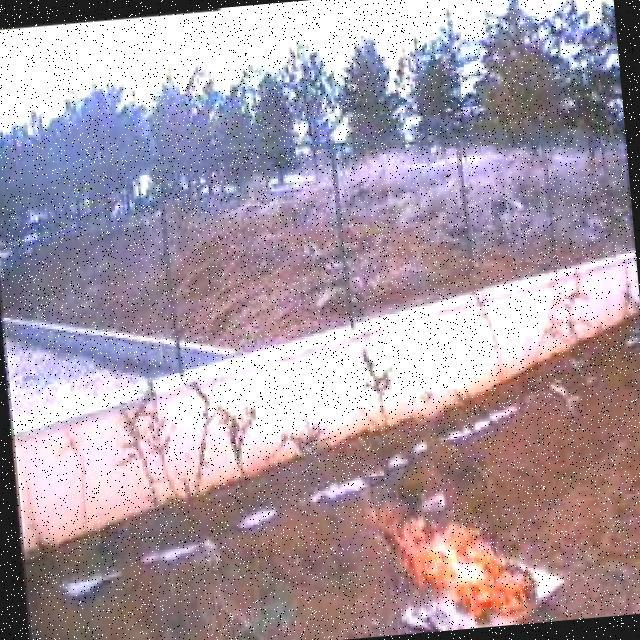Fire: (359, 475, 541, 634)
